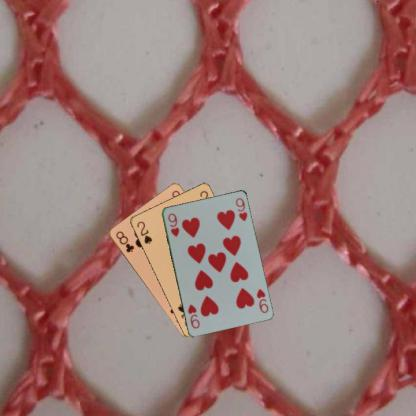2s: (134, 218, 153, 245)
8c: (113, 228, 135, 254)
9h: (254, 286, 269, 314), (166, 210, 180, 238)
